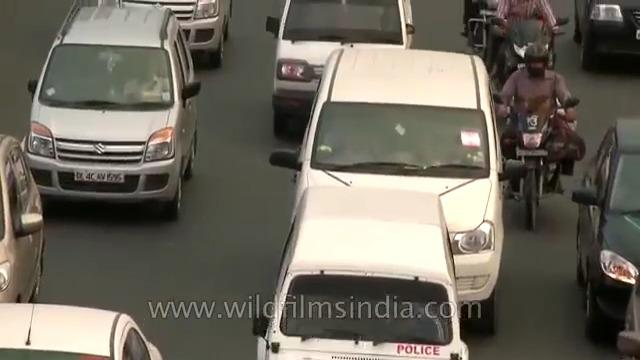Bike: (486, 36, 584, 234), (478, 0, 577, 82)
Car: (308, 40, 505, 337), (28, 0, 196, 227), (258, 185, 474, 360), (576, 117, 640, 337)
